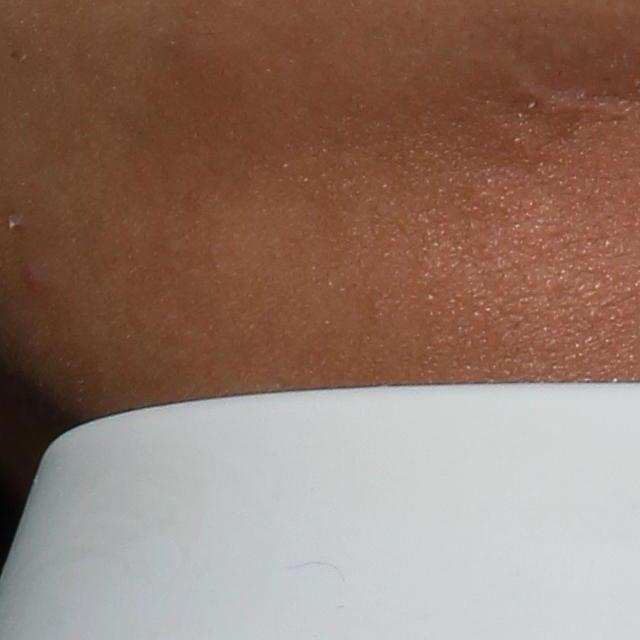papule: (17, 263, 49, 294)
